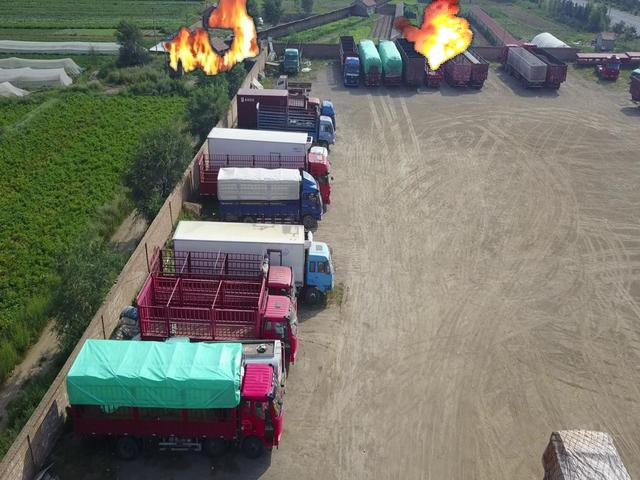fire: (163, 1, 259, 74), (390, 1, 475, 71)
